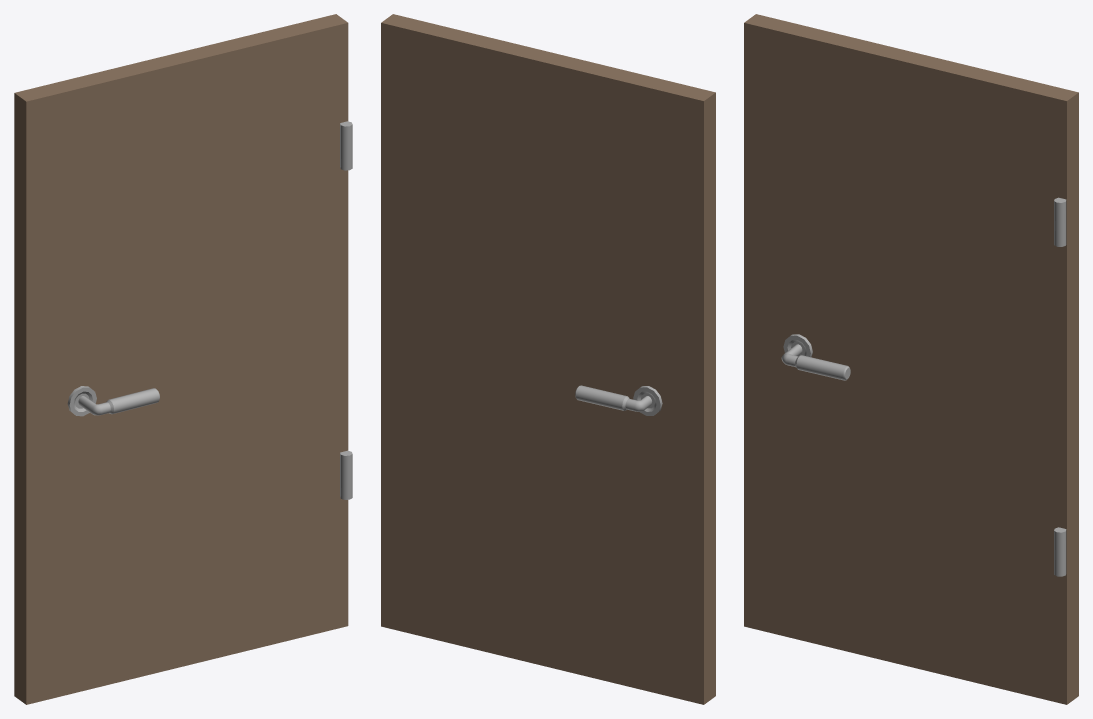
File: door.fbx
3 views of the same model, side by side, from view 1: azimuth 30°, elevation 25°; view 2: azimuth 150°, elevation 25°; view 3: azimuth 330°, elevation 25° (orthographic).
Visible parts, largest first — view 1: door_server, Cylinder.003; view 2: door_server, Cylinder.003; view 3: door_server, Cylinder.003.
Part boxes in pixels (x1,y1,x2,y2): door_server: (14, 14, 352, 704); Cylinder.003: (78, 388, 159, 415); door_server: (381, 14, 715, 704); Cylinder.003: (575, 385, 651, 411); door_server: (744, 14, 1078, 704); Cylinder.003: (781, 344, 850, 380).
Bounding box in the file's own units: 142 × 253 × 32.9.
